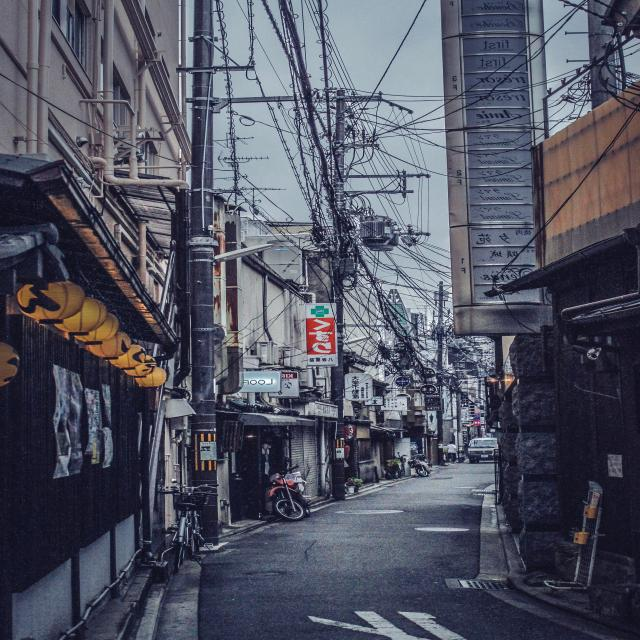adult: (447, 441, 457, 463)
